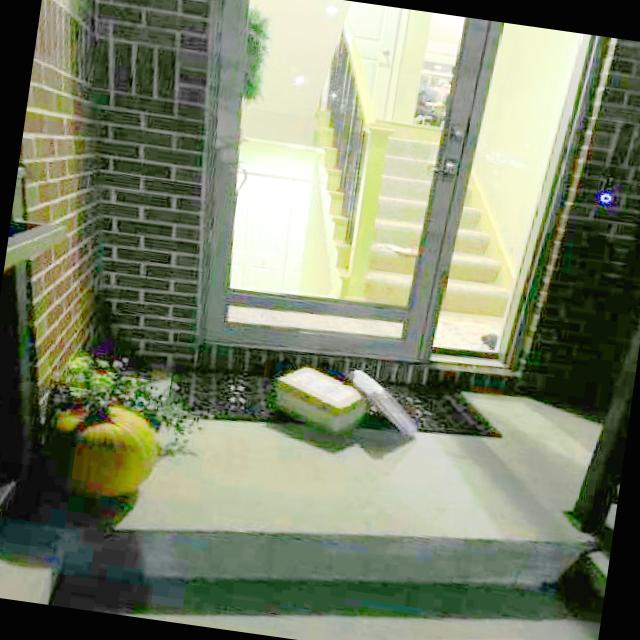Box: (271, 364, 370, 438), (341, 369, 426, 439)
